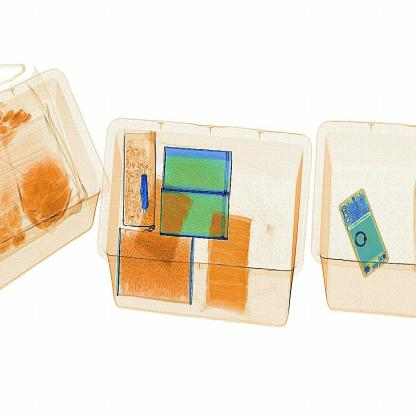knife: (134, 170, 152, 219)
